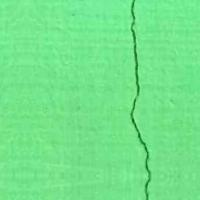crack: (113, 0, 160, 199)
